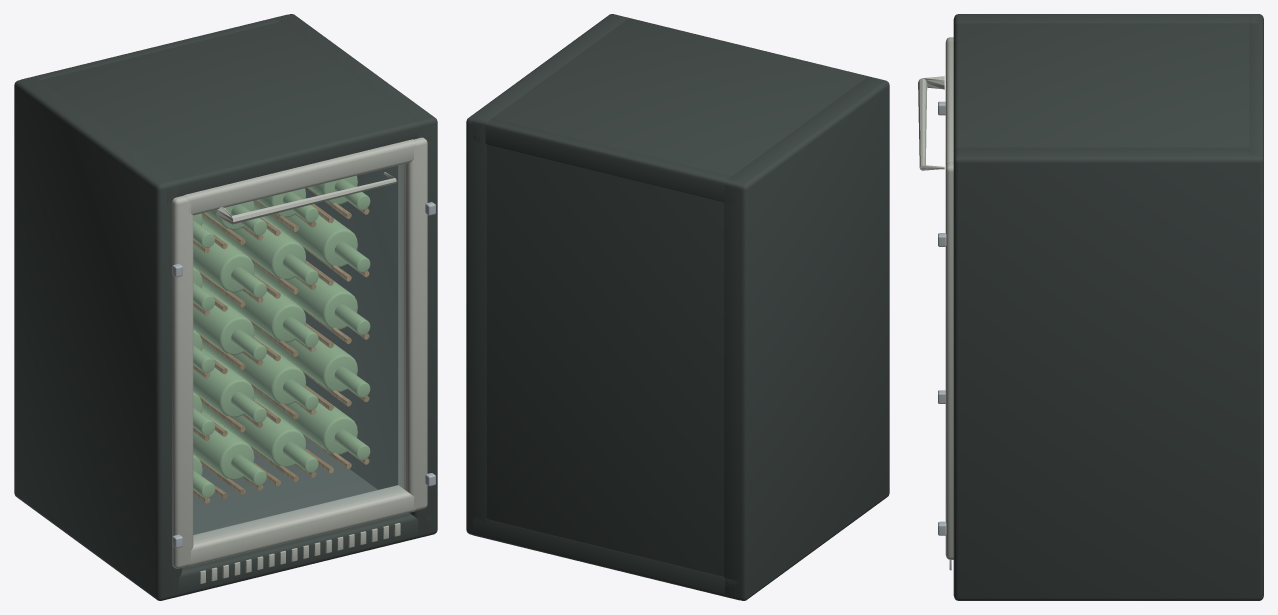
The model's file is wine-fridge.glb.
3 views of the same model, side by side, from view 1: azimuth 30°, elevation 25°; view 2: azimuth 150°, elevation 25°; view 3: azimuth 270°, elevation 25° (orthographic). The views are drawn at different scales.
Visible parts, largest first — view 1: catalog_surface_RealismUV, catalog_surface_UVMap; view 2: catalog_surface_RealismUV; view 3: catalog_surface_RealismUV.
Part boxes in pixels (x1,y1,x2,y2): catalog_surface_RealismUV: (14,14,437,600); catalog_surface_UVMap: (193,164,405,541); catalog_surface_RealismUV: (466,14,889,600); catalog_surface_RealismUV: (918,14,1263,600).
Size of the model in its own units: 0.6 by 0.85 by 0.6.
7 materials, 1 textured.
